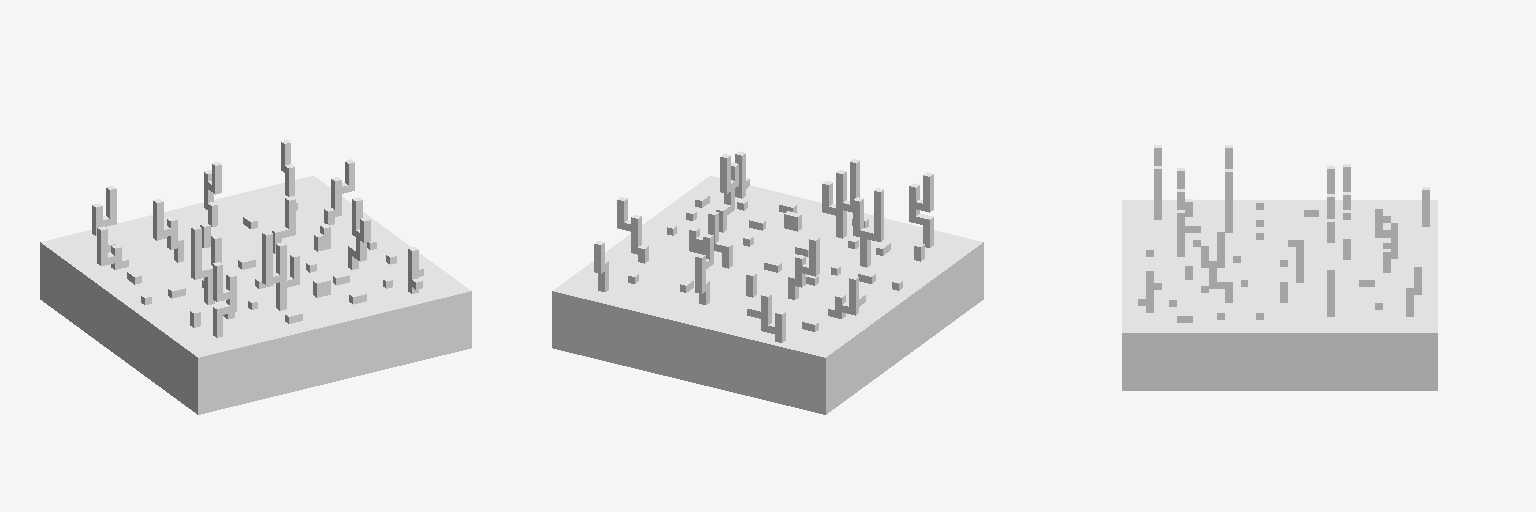
Rendered from ground1.0.obj.
The picture shows the model from 3 angles: view 1: azimuth 30°, elevation 25°; view 2: azimuth 150°, elevation 25°; view 3: azimuth 270°, elevation 25°; orthographic projection.
Parts seen in each view (by area): view 1: ground1.0; view 2: ground1.0; view 3: ground1.0.
Part boxes in pixels (left/top/right/bottom): ground1.0: left=40, top=140, right=471, bottom=414; ground1.0: left=552, top=151, right=983, bottom=414; ground1.0: left=1122, top=145, right=1437, bottom=390.
Bounding box in the file's own units: 40 × 19 × 40.